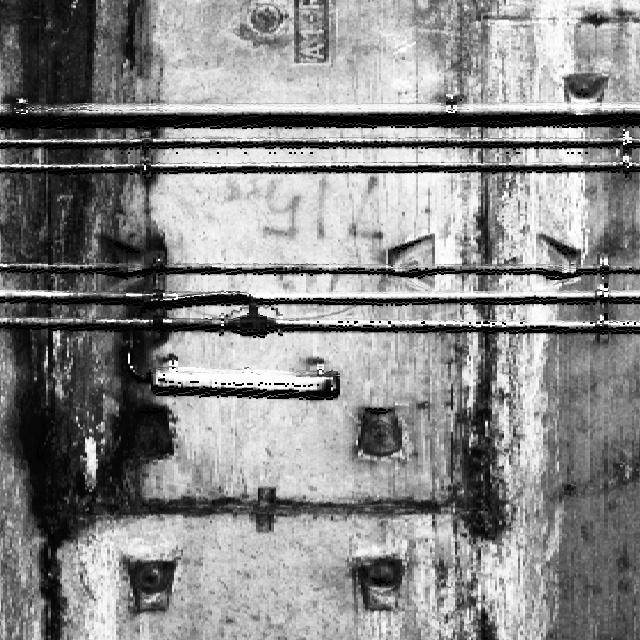leakage: (0, 0, 178, 636), (425, 206, 534, 559)
